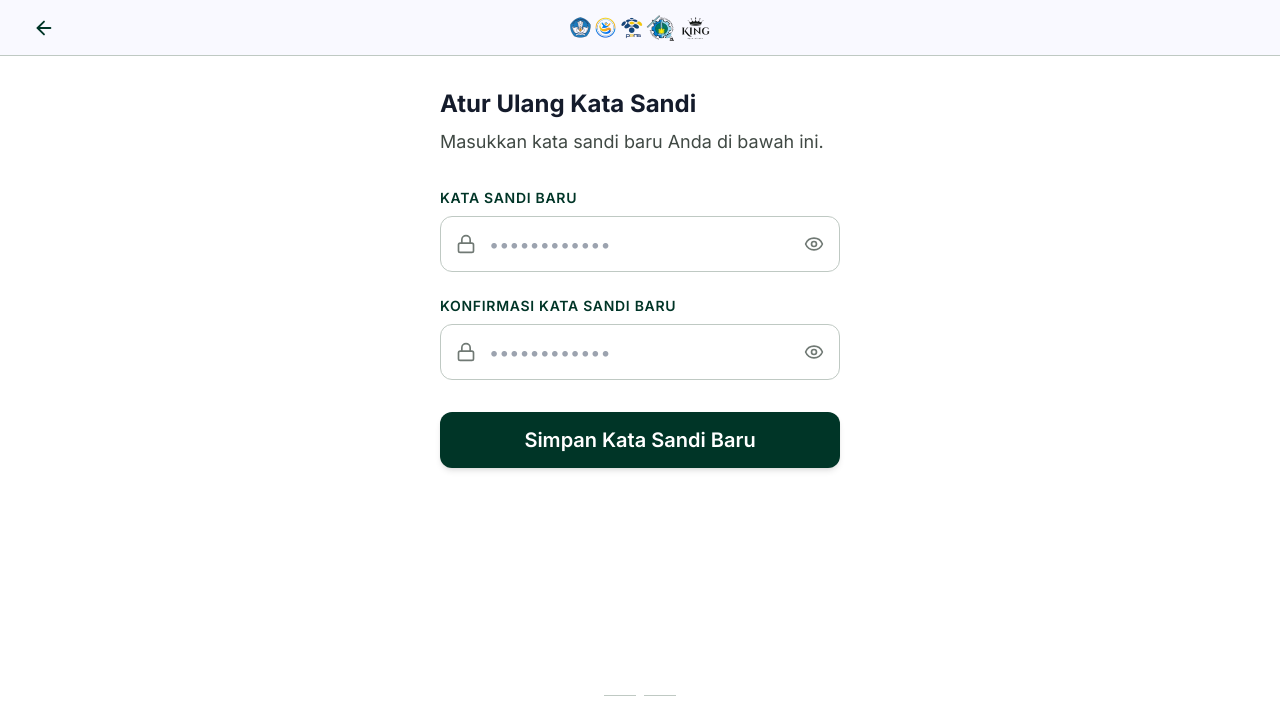
Test case: TASK-0213 Reset Password UI Component › validates password mismatch on client before sending network request
This screenshot has width=1280, height=720.
Type "PasswordA123!" into the password field labelled "Kata Sandi Baru" at [640, 244], box top-left (440, 216), bottom-right (840, 272)
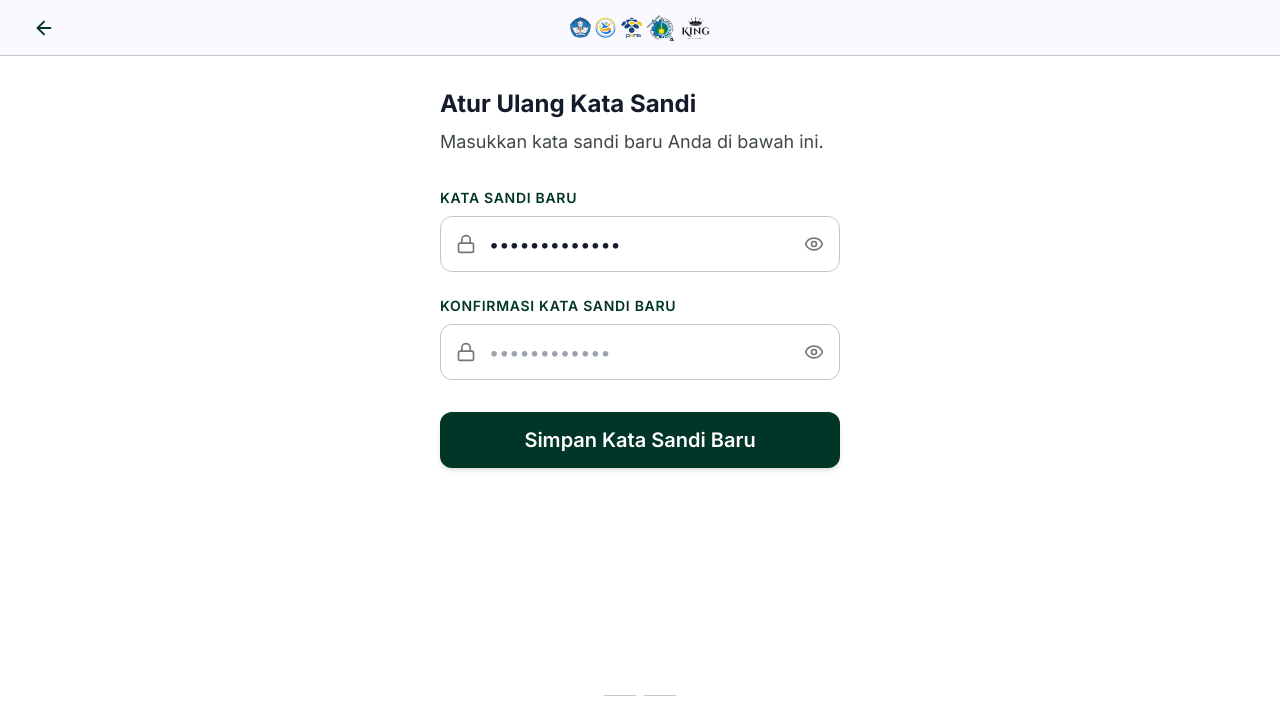
Type "PasswordB123!" into the password field labelled "Konfirmasi Kata Sandi Baru" at [640, 352], box top-left (440, 324), bottom-right (840, 380)
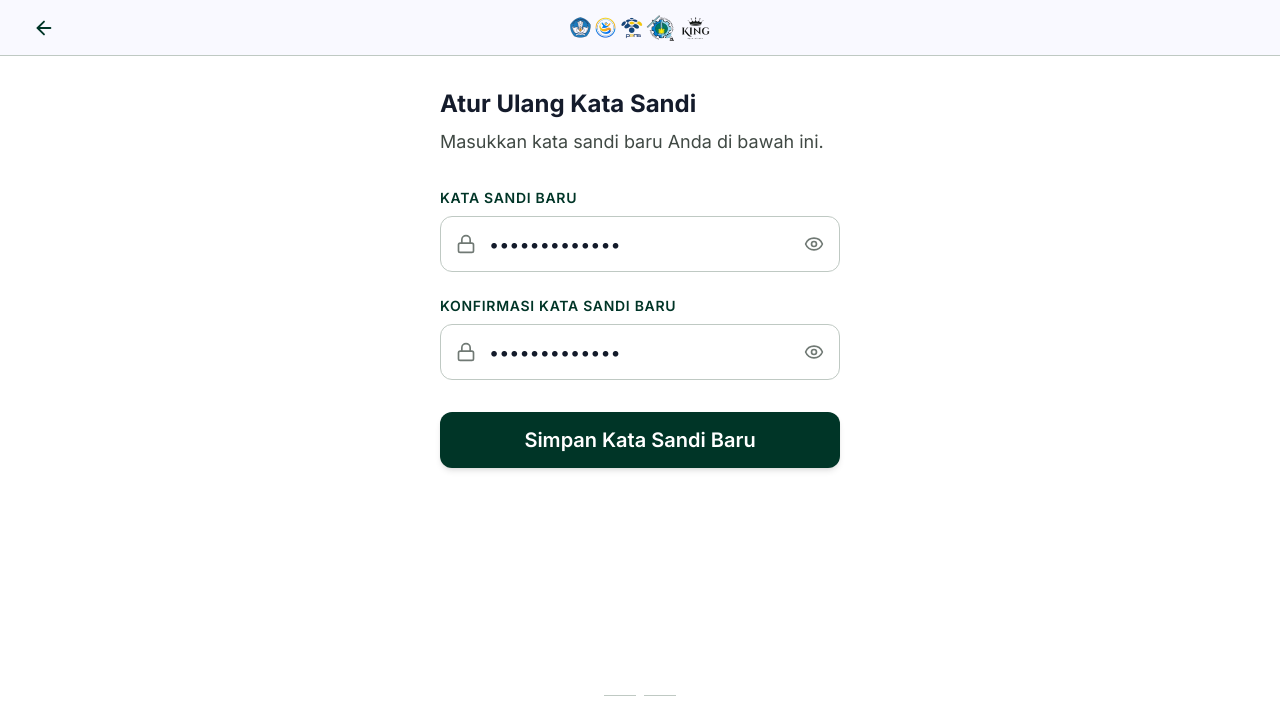
Click the button "Simpan Kata Sandi Baru" at [640, 440], box top-left (440, 412), bottom-right (840, 468)
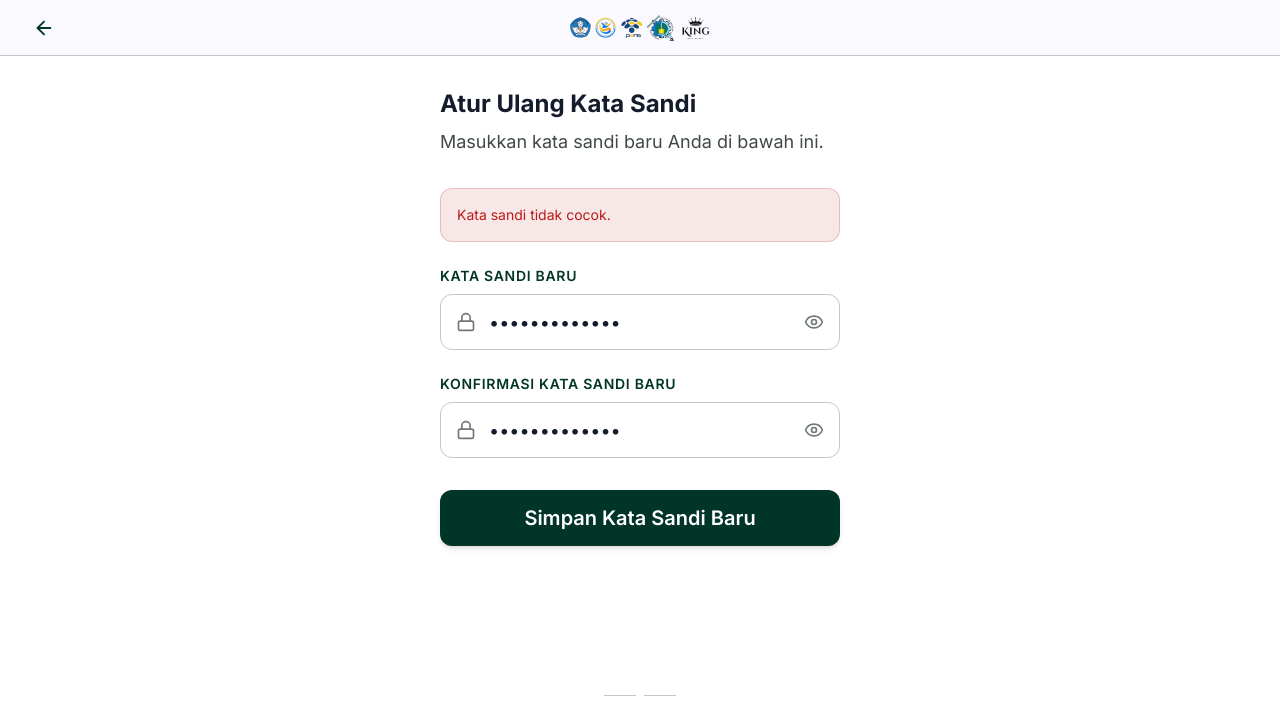
Expected: the message reads "Kata sandi tidak cocok.", top-left (457, 206), bottom-right (611, 223)
